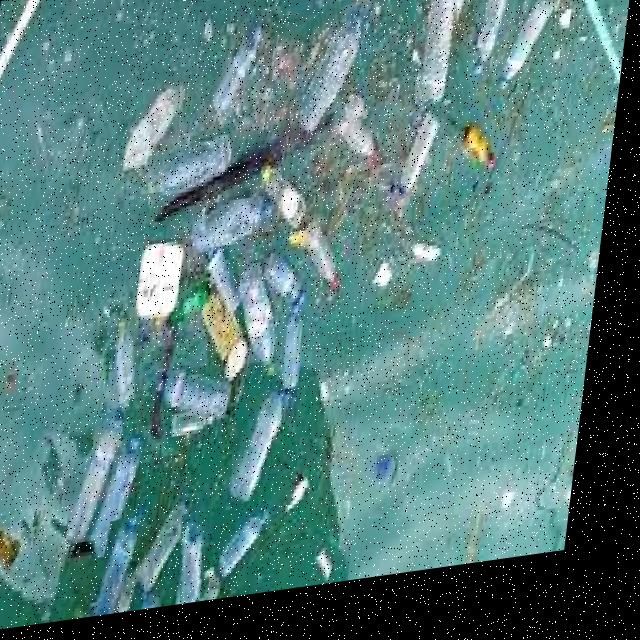litter: (276, 13, 377, 150), (409, 0, 478, 132), (239, 397, 311, 514), (125, 62, 191, 189), (384, 113, 455, 214), (79, 417, 131, 545), (501, 0, 557, 117), (113, 523, 157, 621), (189, 517, 230, 609)
